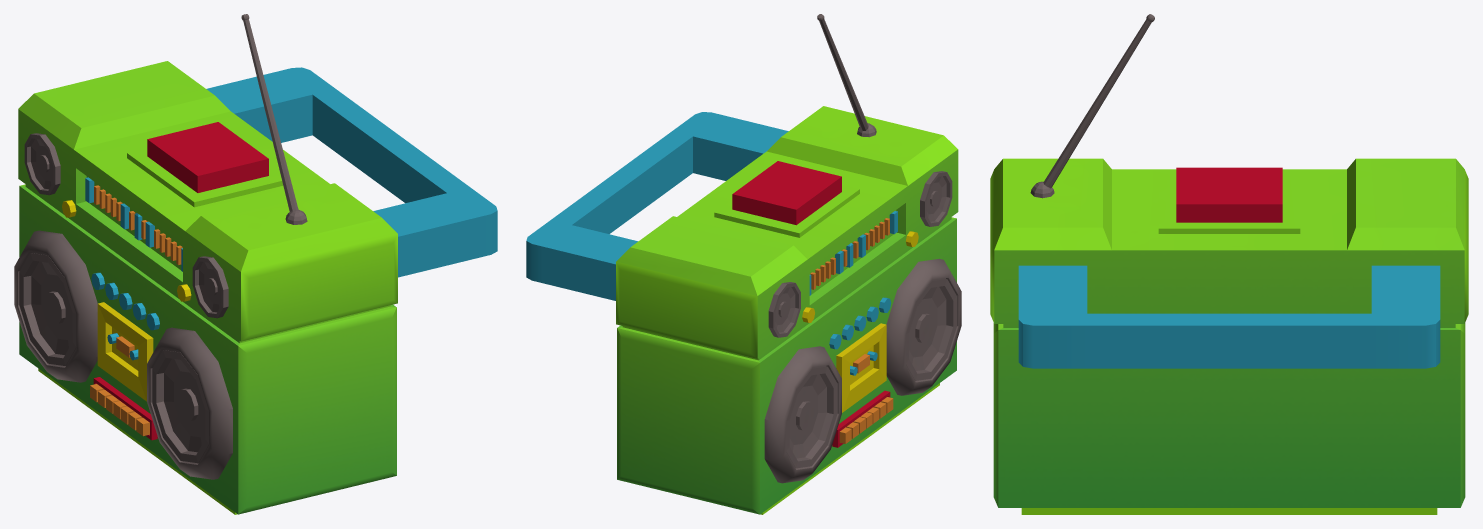
File: ITM_BoomBox.fbx
The picture shows the model from 3 angles, left to right: view 1: azimuth 30°, elevation 25°; view 2: azimuth 150°, elevation 25°; view 3: azimuth 270°, elevation 25°; orthographic projection. The views are drawn at different scales.
Visible parts, largest first — view 1: Boombox, Button; view 2: Boombox, Button; view 3: Boombox, Button.
Boxes of the visible parts, x1=… form: Boombox: x1=14, y1=14, x2=497, y2=514; Button: x1=147, y1=122, x2=268, y2=192; Boombox: x1=526, y1=14, x2=961, y2=514; Button: x1=732, y1=161, x2=841, y2=225; Boombox: x1=990, y1=14, x2=1468, y2=514; Button: x1=1176, y1=167, x2=1282, y2=222.
Bounding box in the file's own units: 37.82 × 54.75 × 51.22.
